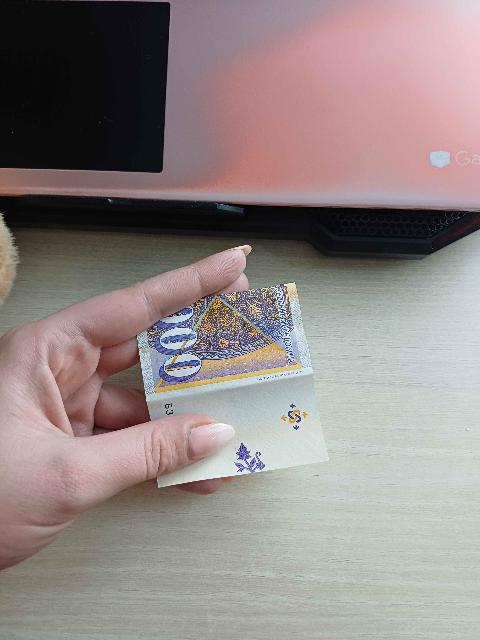2000_note: (138, 284, 327, 486)
